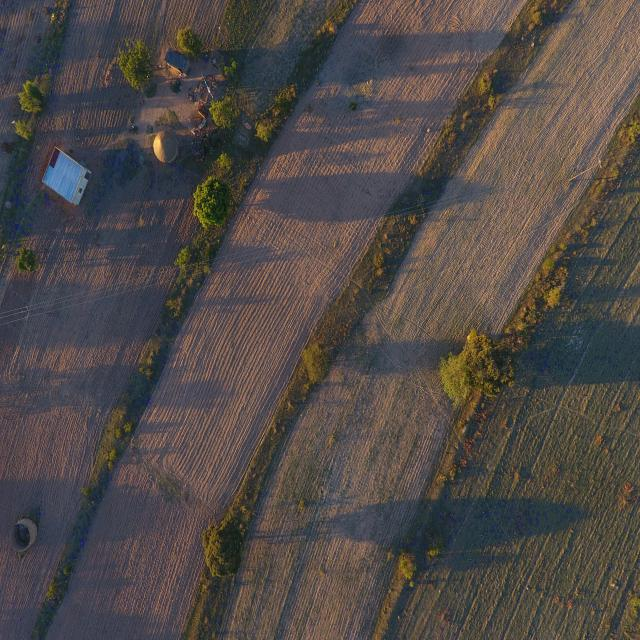boundaries: (181, 23, 557, 626), (34, 17, 358, 617), (364, 179, 630, 630)
